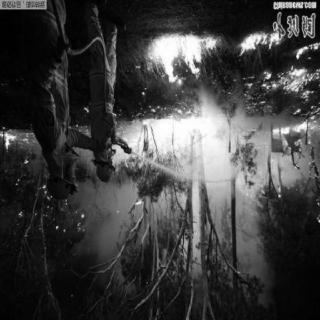Fire: (282, 38, 318, 110)
